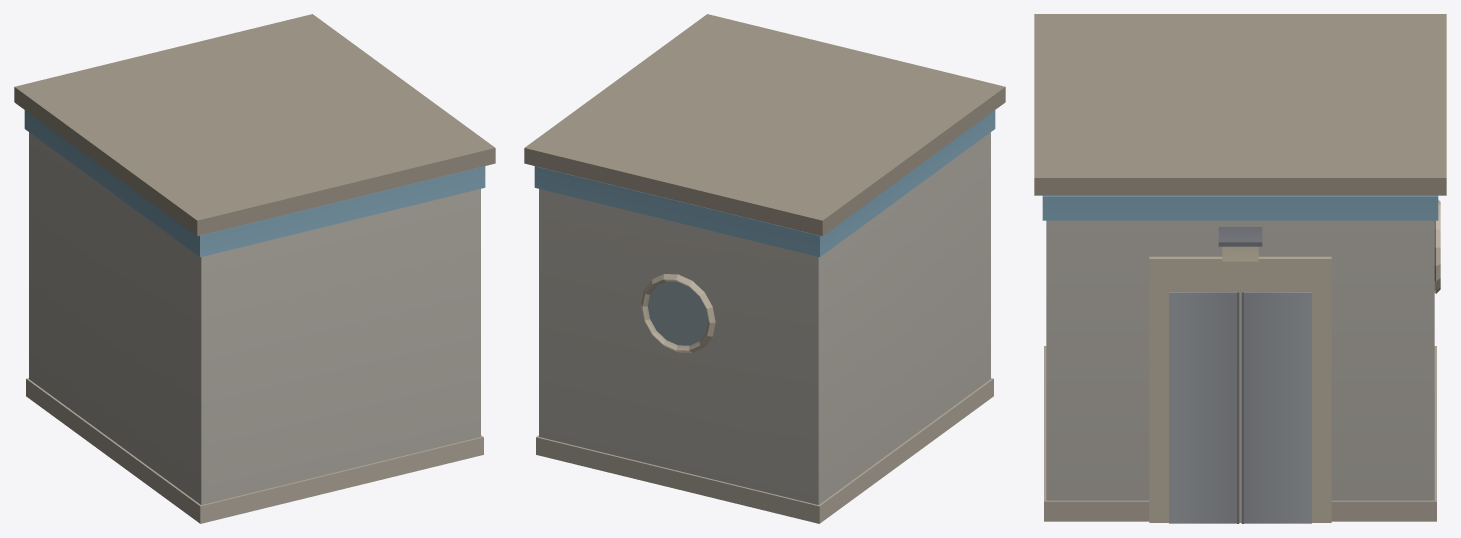
The model's file is roof_lift_house.glb.
3 renders of one model, left to right at view 1: azimuth 30°, elevation 25°; view 2: azimuth 150°, elevation 25°; view 3: azimuth 270°, elevation 25°, orthographic. The views are drawn at different scales.
Parts seen in each view (by area): view 1: roof.lift_house; view 2: roof.lift_house; view 3: roof.lift_house, door_l, door_r.
Part boxes in pixels (x1=…): roof.lift_house: x1=14, y1=14, x2=495, y2=523; roof.lift_house: x1=524, y1=14, x2=1005, y2=523; roof.lift_house: x1=1034, y1=14, x2=1446, y2=522; door_l: x1=1241, y1=292, x2=1311, y2=523; door_r: x1=1169, y1=292, x2=1239, y2=523.
Size of the model in its own units: 3.4 by 3.16 by 3.4.
